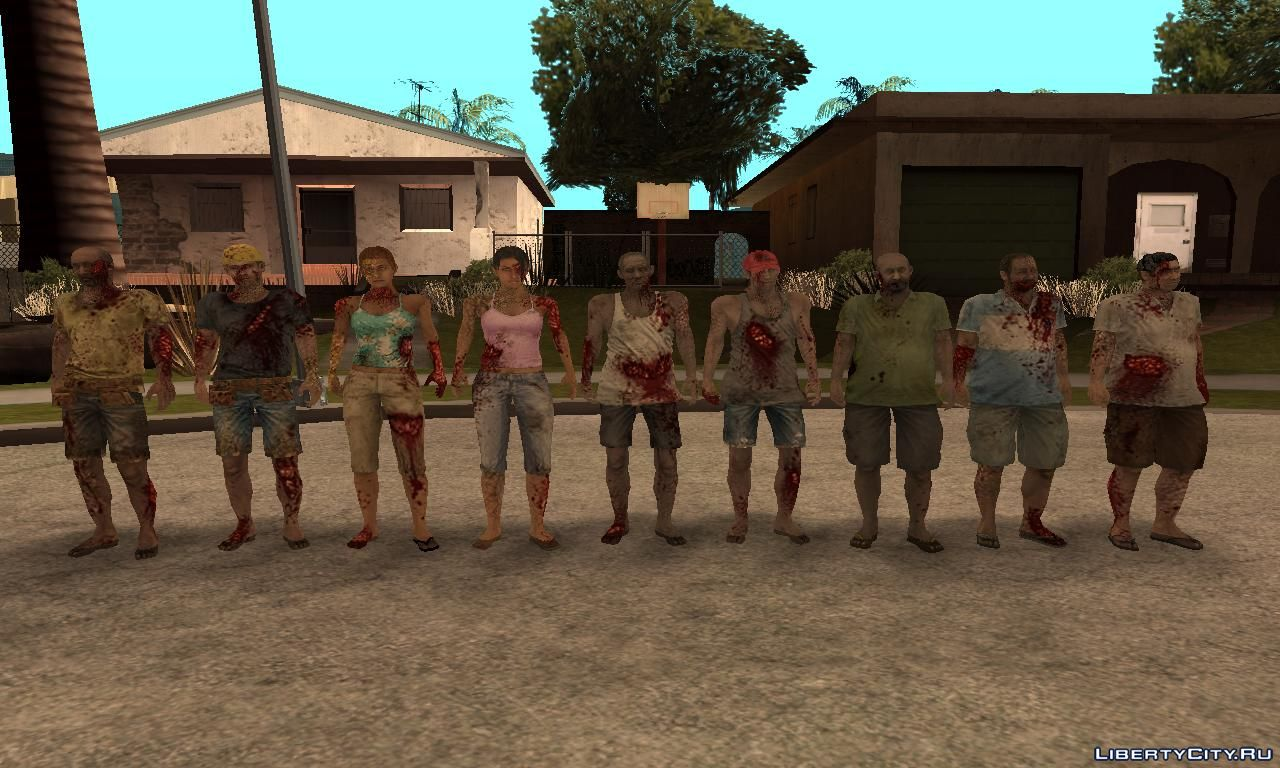person: (188, 244, 332, 560), (41, 248, 182, 570), (325, 252, 447, 564), (458, 246, 575, 563), (833, 249, 953, 557), (1095, 256, 1211, 559), (585, 239, 695, 555), (959, 248, 1070, 560), (708, 251, 819, 555)
